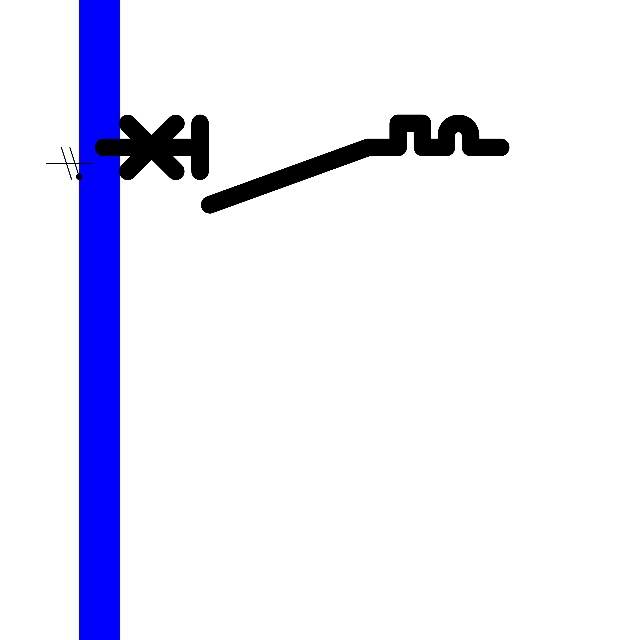interruptor_termomagnetico: (93, 113, 511, 215)
